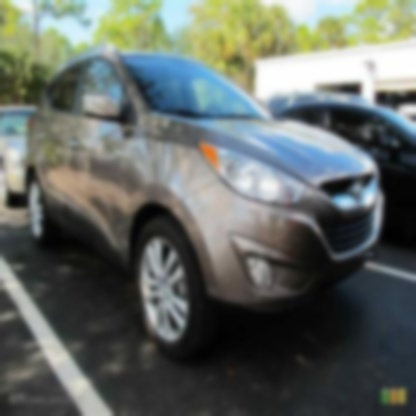Vehicle: (25, 44, 385, 364)
